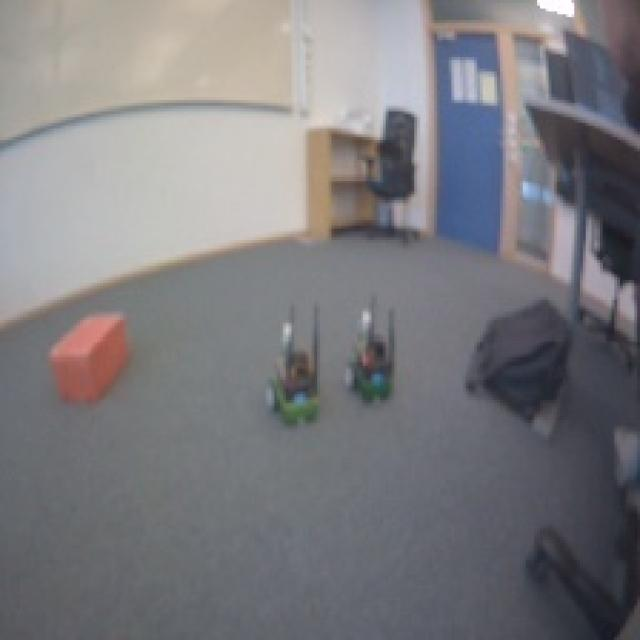robot: (265, 354, 327, 432), (347, 330, 401, 408)
target: (45, 308, 128, 403)
